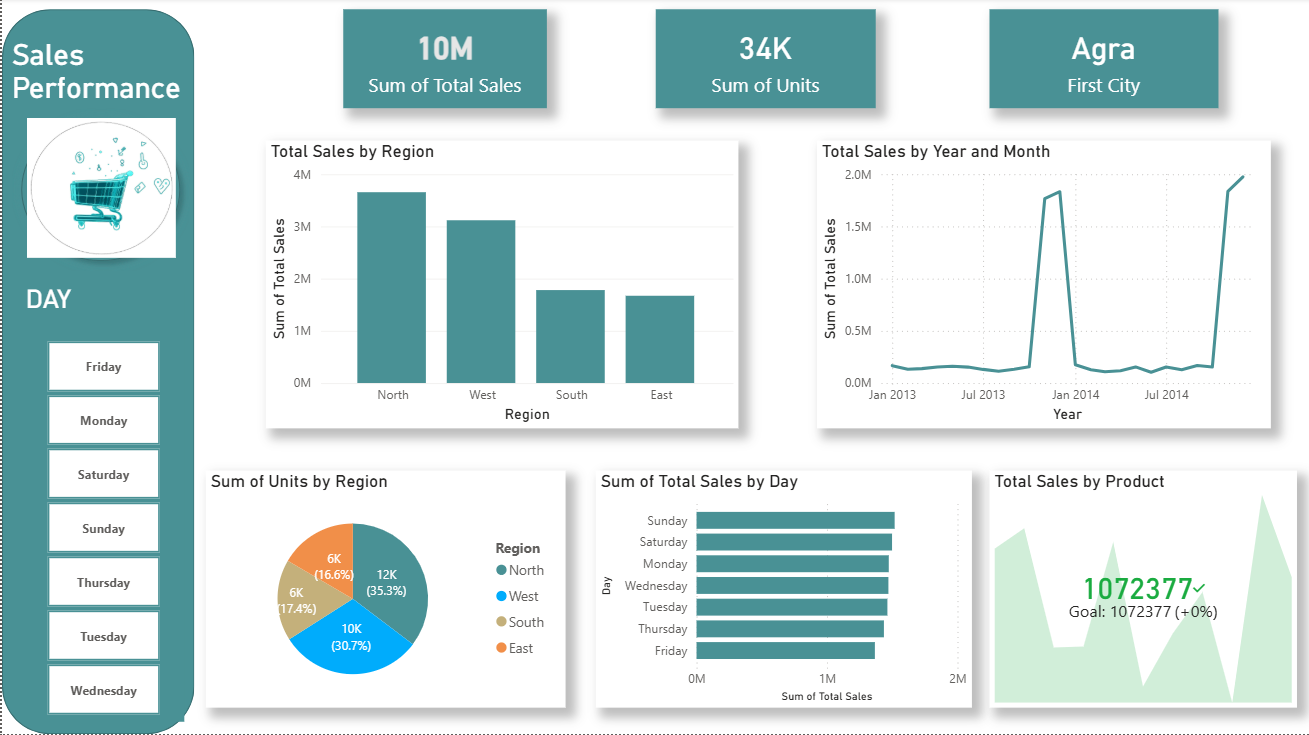

This screenshot's page, from the dashboard's own definition file:
{"tool":"powerbi","page":{"name":"Page 2","canvas":[1280,720],"ordinal":1},"visuals":[{"type":"columnChart","title":" Total Sales by Region","fields":{"Category":["Sales Data.Region"],"Y":["Sum(Sales Data.Total Sales)"]},"box":[258,139.4,462.2,281.3],"z":0},{"type":"pieChart","fields":{"Y":["Sum(Sales Data.Units)"],"Category":["Sales Data.Region"]},"box":[199.3,462.2,352.2,232.3],"z":1000},{"type":"lineChart","title":"Total Sales by Year and Month","fields":{"Y":["Sum(Sales Data.Total Sales)"],"Category":["Sales Data.Date.Variation.Date Hierarchy.Year","Sales Data.Date.Variation.Date Hierarchy.Month"]},"box":[797.3,139.4,443.9,281.3],"z":2000},{"type":"clusteredBarChart","fields":{"Category":["Sales Data.Day"],"Y":["Sum(Sales Data.Total Sales)"]},"box":[580.8,462.2,368.1,232.3],"z":3000},{"type":"kpi","title":" Total Sales by Product","fields":{"Indicator":["Sum(Sales Data.Total Sales)"],"TrendLine":["Sales Data.Product"],"Goal":["Sum(Sales Data.Total Sales)"]},"box":[966,462.2,300.8,232.3],"z":4000},{"type":"card","fields":{"Values":["Sum(Sales Data.Total Sales)"]},"box":[333.8,11,199.3,96.6],"z":5000},{"type":"card","fields":{"Values":["Sum(Sales Data.Units)"]},"box":[639.5,11,215.2,96.6],"z":6000},{"type":"card","fields":{"Values":["Min(Sales Data.City)"]},"box":[966,11,223.8,96.6],"z":7000},{"type":"shape","box":[0,11,188.3,709.2],"z":8000},{"type":"slicer","title":"DAY","fields":{"Values":["Sales Data.Day"]},"box":[18.3,280,160.2,428],"z":9000},{"type":"shape","title":"Sales Performance","box":[9.8,37.9,173.6,228.7],"z":10000},{"type":"image","box":[24.5,117.4,145.5,137],"z":11000}]}

Visuals, with their boxes in screenshot pixels (x1, y1, x2, y2), scaled from the page's 1280x720 canvas onto the 1309x735 screenshot:
" Total Sales by Region" columnChart: detection(264, 142, 737, 429)
pieChart - Sum(Sales Data.Units) x Sales Data.Region: detection(204, 472, 564, 709)
"Total Sales by Year and Month" lineChart: detection(815, 142, 1269, 429)
clusteredBarChart - Sales Data.Day x Sum(Sales Data.Total Sales): detection(594, 472, 970, 709)
" Total Sales by Product" kpi: detection(988, 472, 1296, 709)
card - Sum(Sales Data.Total Sales): detection(341, 11, 545, 110)
card - Sum(Sales Data.Units): detection(654, 11, 874, 110)
card - Min(Sales Data.City): detection(988, 11, 1217, 110)
shape: detection(0, 11, 193, 734)
"DAY" slicer: detection(19, 286, 183, 723)
"Sales Performance" shape: detection(10, 39, 188, 272)
image: detection(25, 120, 174, 260)
